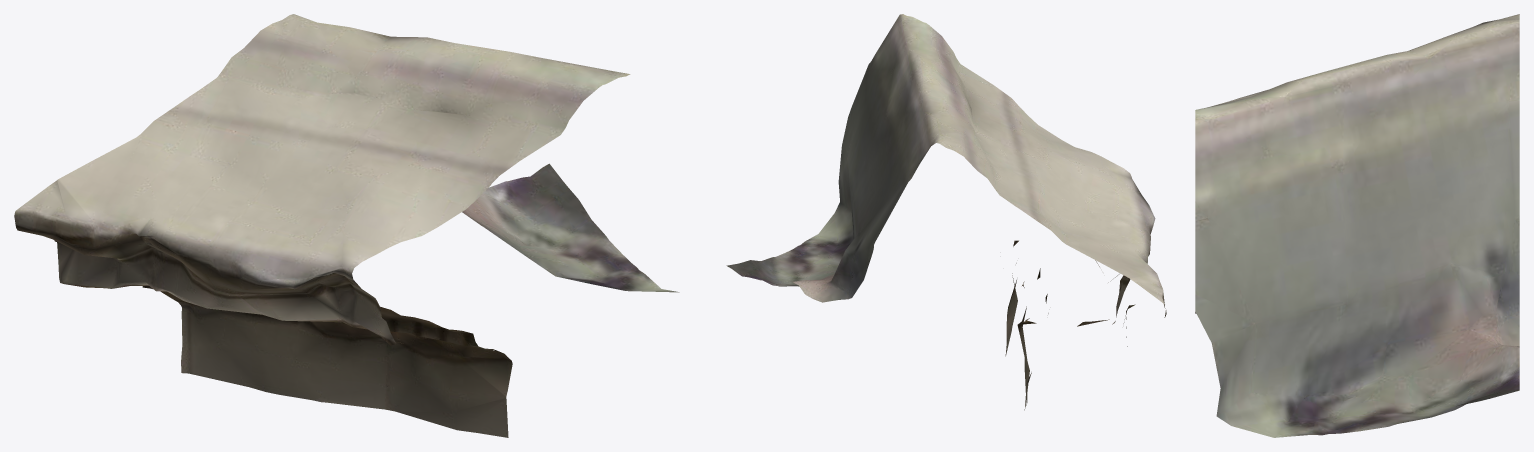
3 views of the same model, side by side, from view 1: azimuth 30°, elevation 25°; view 2: azimuth 150°, elevation 25°; view 3: azimuth 270°, elevation 25° (orthographic). The views are drawn at different scales.
Size of the model in its own units: 3.12 by 1.88 by 1.5.
Materials: 1 (1 with a texture image).
